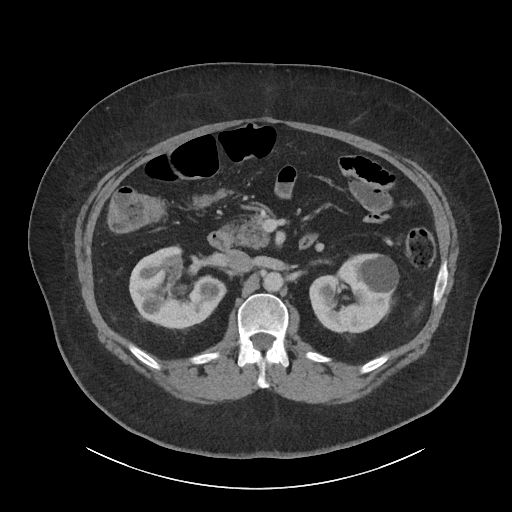Lesion: (354, 252, 404, 295)
